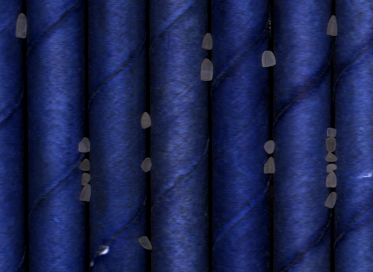broken_grain: (14, 10, 29, 42), (261, 48, 278, 69), (261, 156, 279, 175), (324, 170, 340, 190), (323, 190, 339, 210), (326, 14, 339, 38), (137, 234, 153, 252), (202, 32, 215, 53), (140, 110, 153, 130), (263, 138, 278, 155), (80, 184, 94, 202), (141, 156, 154, 173), (325, 125, 339, 140), (323, 151, 340, 162), (323, 163, 339, 173), (80, 173, 91, 187)
milky_broken_grain: (199, 57, 216, 85), (75, 137, 93, 154)
yellow_grain: (323, 137, 337, 152), (79, 158, 91, 171)
